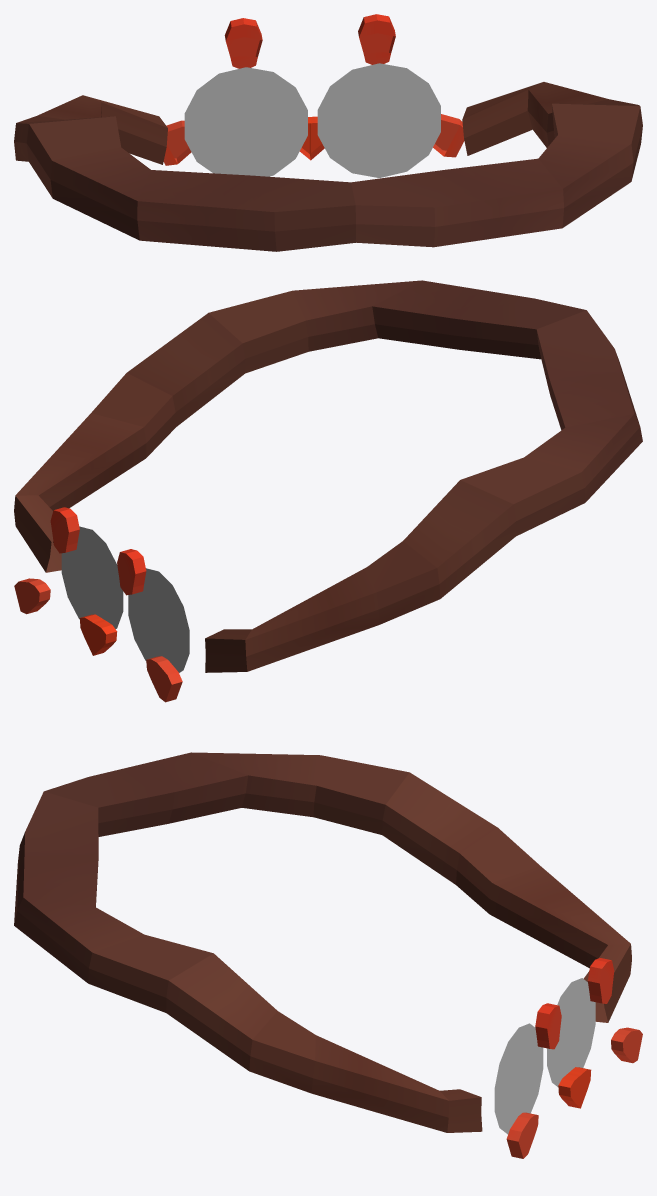
Rendered from GOGGLES.fbx.
3 views of the same model, one above another, from view 1: azimuth 30°, elevation 25°; view 2: azimuth 150°, elevation 25°; view 3: azimuth 270°, elevation 25° (orthographic). The views are drawn at different scales.
Parts seen in each view (by area): view 1: GOGGLES; view 2: GOGGLES; view 3: GOGGLES.
Part boxes in pixels (x1=…): GOGGLES: x1=14, y1=14, x2=642, y2=251; GOGGLES: x1=14, y1=280, x2=642, y2=702; GOGGLES: x1=14, y1=752, x2=642, y2=1158.
Size of the model in its own units: 26.34 by 12.69 by 28.22.
